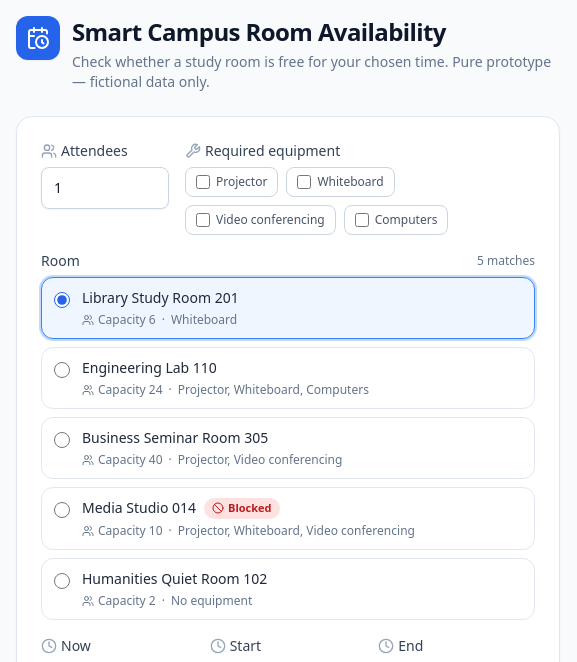
F4 – empty state when no rooms match › shows the empty state when attendees exceed every capacity
Replace the text in the number field labelled "Attendees" with "41" at coordinates (105, 188), box [41,167,169,209]
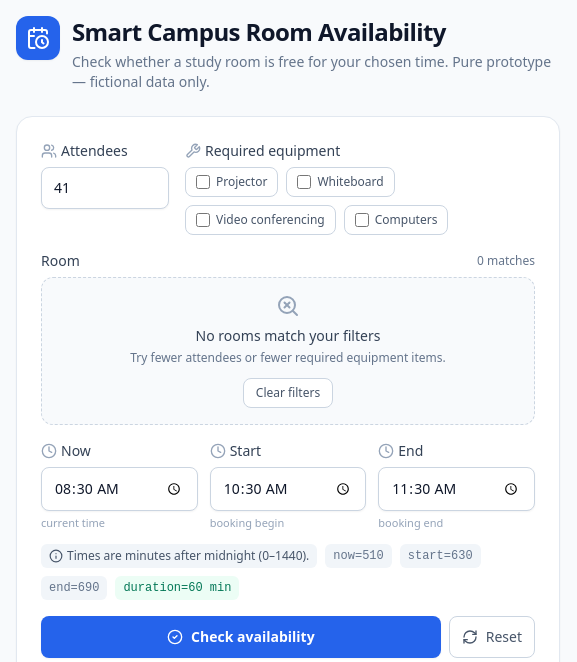
Now the text "No rooms match your filters" is shown, box [196,326,380,345]
